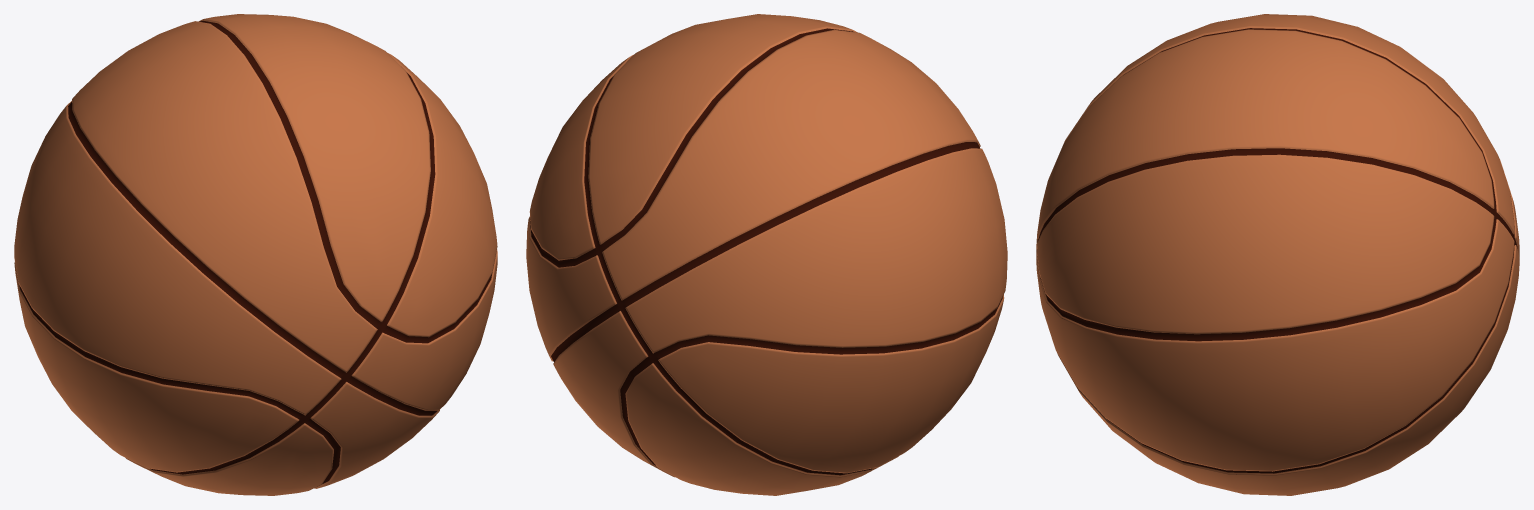
Rendered from lamqiu_02.fbx.
3 views of the same model, side by side, from view 1: azimuth 30°, elevation 25°; view 2: azimuth 150°, elevation 25°; view 3: azimuth 270°, elevation 25° (orthographic).
Visible parts, largest first — view 1: Sphere003; view 2: Sphere003; view 3: Sphere003.
Part boxes in pixels (x1,y1,x2,y2): Sphere003: (14, 14, 497, 495); Sphere003: (526, 14, 1007, 495); Sphere003: (1036, 14, 1519, 495).
Bounding box in the file's own units: 40.12 × 40.13 × 40.22.
